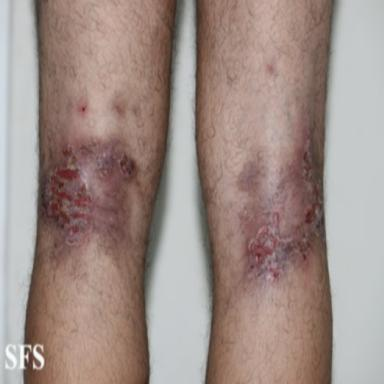Hailey-Hailey-Disease: (237, 131, 325, 282), (39, 131, 142, 248)
